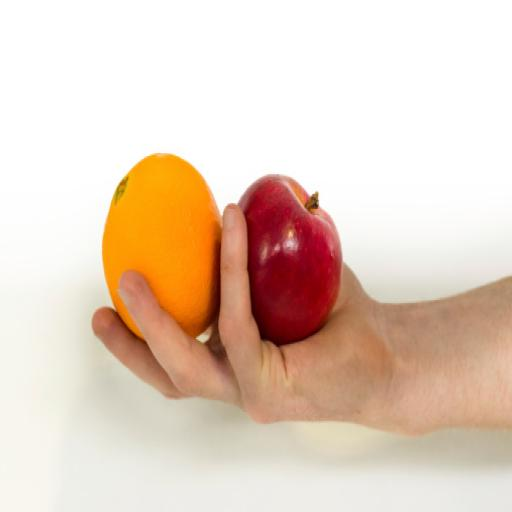apple: (239, 175, 342, 345)
orange: (102, 153, 221, 339)
